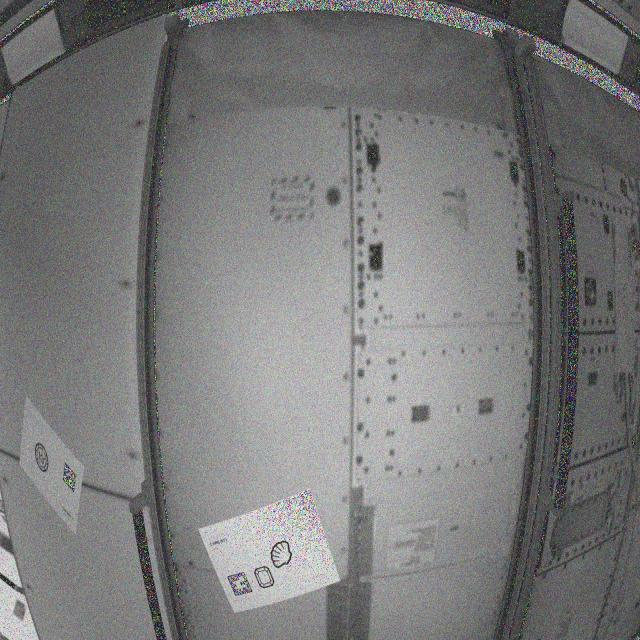coin: (33, 443, 53, 476)
emerald: (254, 566, 278, 591)
shell: (271, 540, 296, 571)
